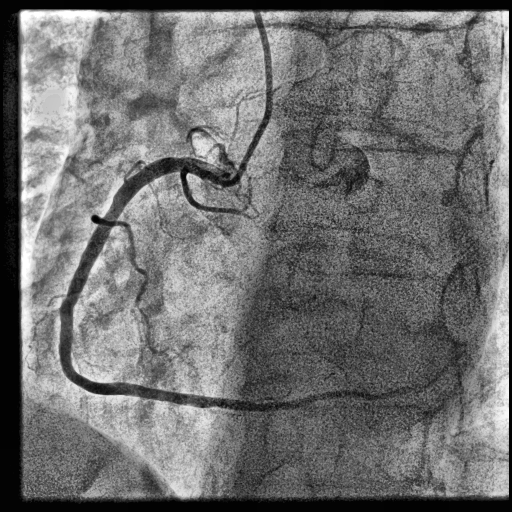pborca: (232, 384, 425, 412)
rca: (59, 157, 233, 410)
